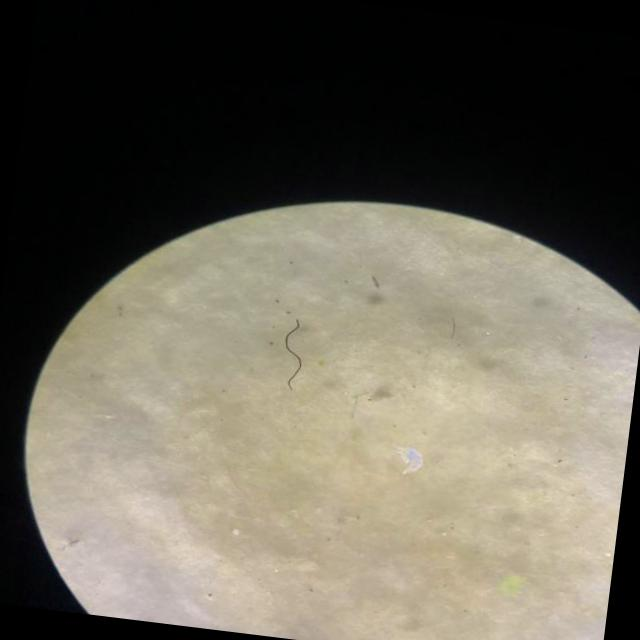fiber: (284, 318, 301, 388)
film: (404, 447, 420, 468)
fragment: (500, 575, 521, 593)
pellet: (230, 528, 238, 535), (231, 529, 237, 534)
